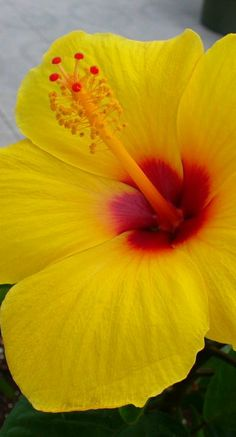Hibiscus: (1, 25, 236, 416)
